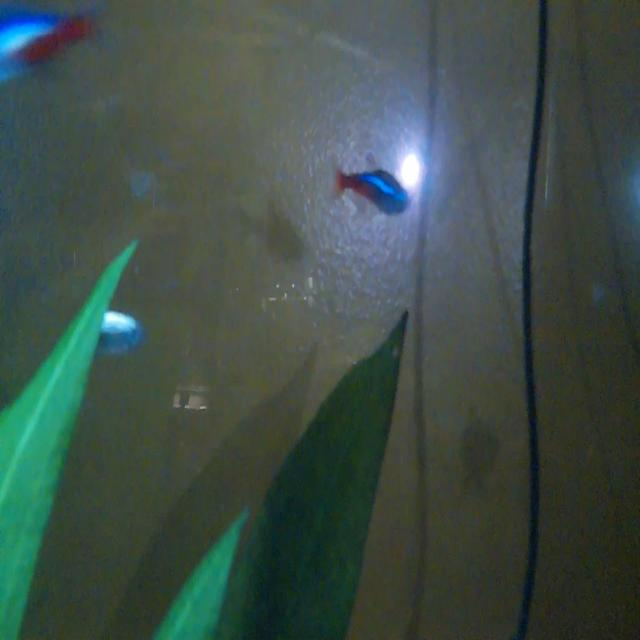fish: (325, 148, 412, 231)
